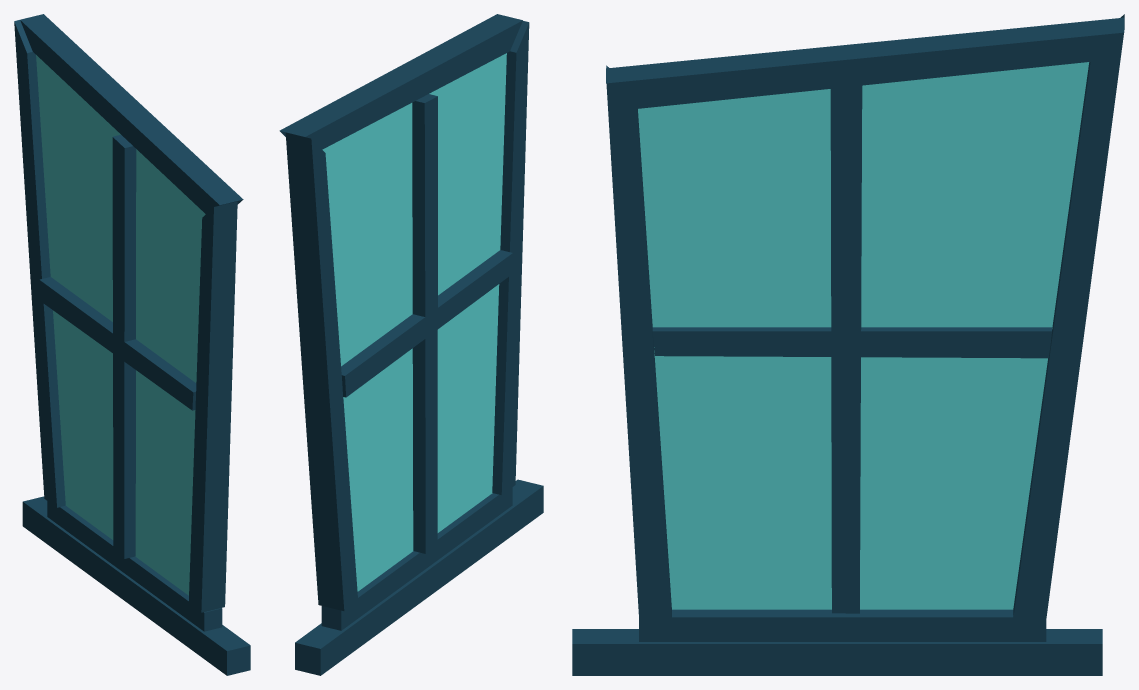
Rendered from pencere.fbx.
The picture shows the model from 3 angles, left to right: view 1: azimuth 30°, elevation 25°; view 2: azimuth 150°, elevation 25°; view 3: azimuth 270°, elevation 25°; orthographic projection. The views are drawn at different scales.
Parts seen in each view (by area): view 1: Cube.002; view 2: Cube.002; view 3: Cube.002.
Boxes of the visible parts, box(x1,y1,x2,y2) form: Cube.002: box(14, 14, 250, 675); Cube.002: box(279, 14, 543, 675); Cube.002: box(572, 14, 1124, 675).
Bounding box in the file's own units: 25.65 × 379 × 293.
